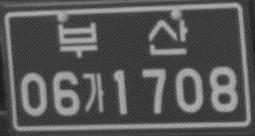0: (172, 65, 204, 115), (19, 71, 47, 119)
1: (109, 68, 131, 116)
6: (51, 70, 80, 118)
7: (140, 67, 168, 116)
8: (208, 64, 240, 114)
가: (80, 71, 107, 115)
부산_D: (55, 15, 190, 60)
